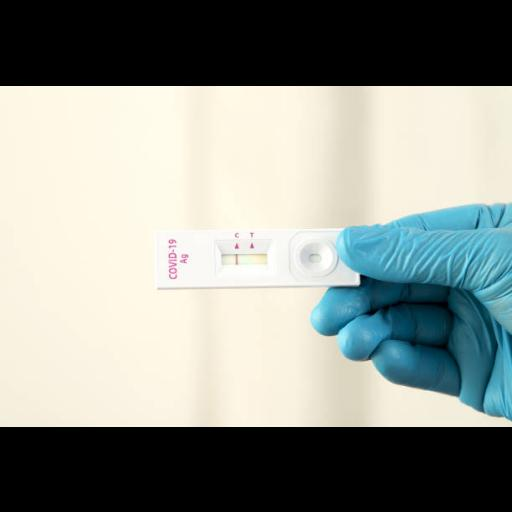Neg: (157, 226, 357, 284)
